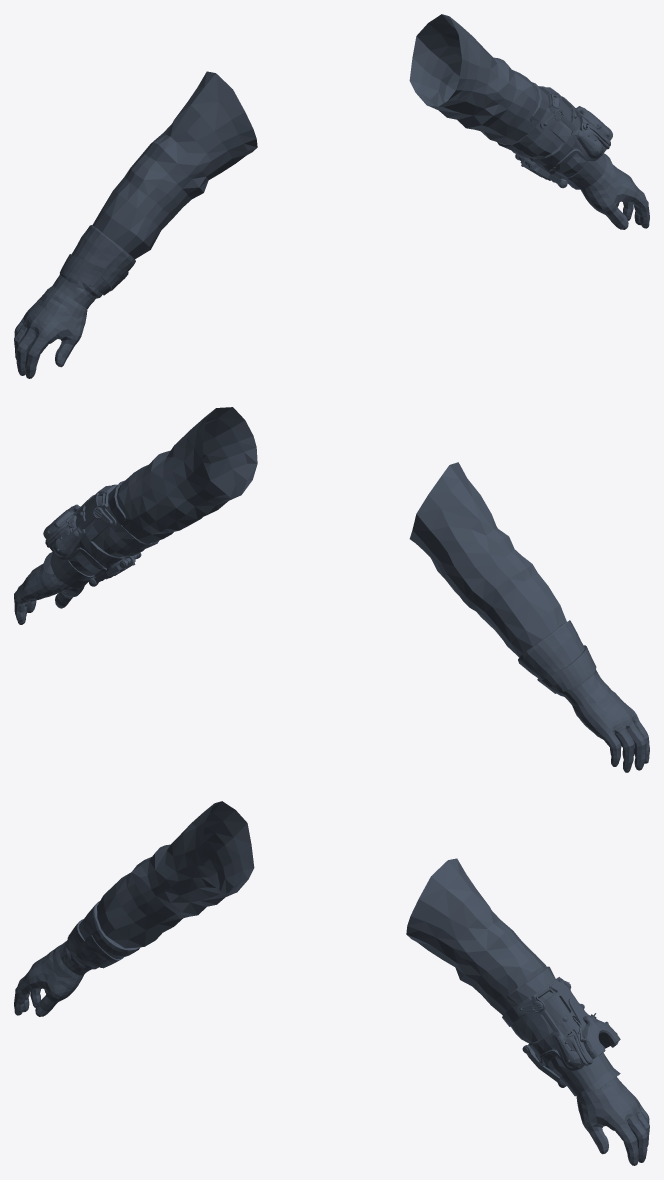
The model's file is tmd_glove_original.obj.
3 renders of one model, top to bottom at view 1: azimuth 30°, elevation 25°; view 2: azimuth 150°, elevation 25°; view 3: azimuth 330°, elevation 25°, orthographic.
Visible parts, largest first — view 1: tmd_glove_Original; view 2: tmd_glove_Original; view 3: tmd_glove_Original.
Boxes of the visible parts, x1,y1,x2,y2 form: tmd_glove_Original: [14, 14, 649, 378]; tmd_glove_Original: [14, 407, 649, 772]; tmd_glove_Original: [14, 801, 649, 1165].
Bounding box in the file's own units: 121 × 47.1 × 15.84.
